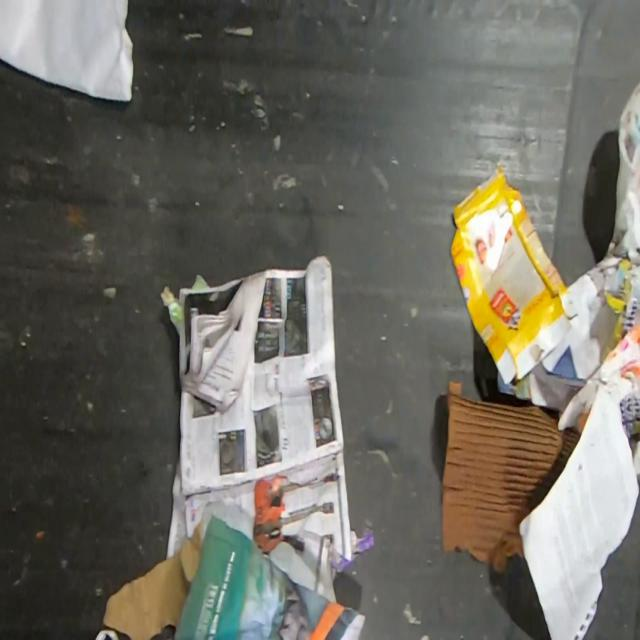cardboard: (450, 164, 580, 390), (441, 378, 582, 576), (101, 518, 204, 640)
